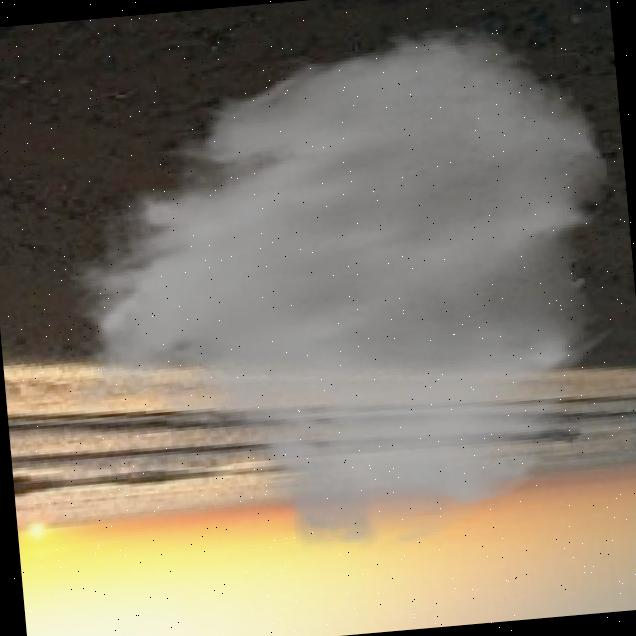smoke: (34, 9, 636, 577)
